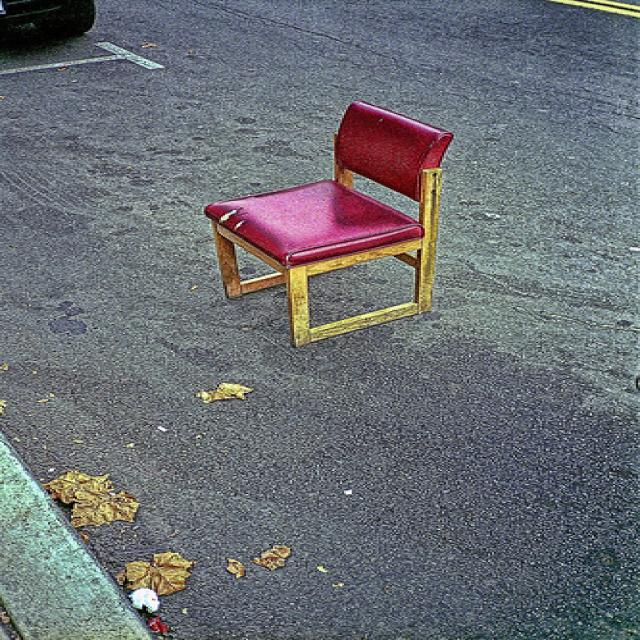chair: (202, 98, 454, 347)
